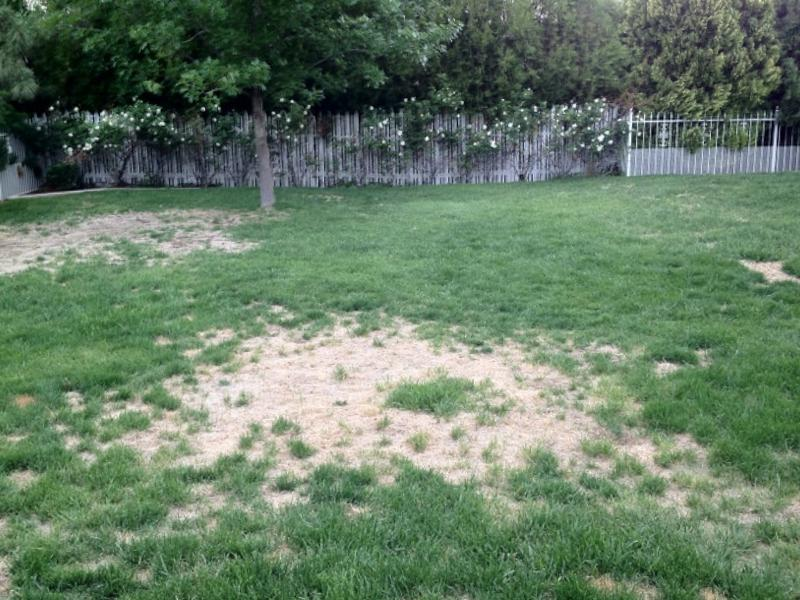patch: (259, 319, 481, 487), (506, 363, 688, 540), (654, 447, 788, 545), (21, 202, 234, 263), (146, 392, 263, 459), (749, 249, 794, 290)
